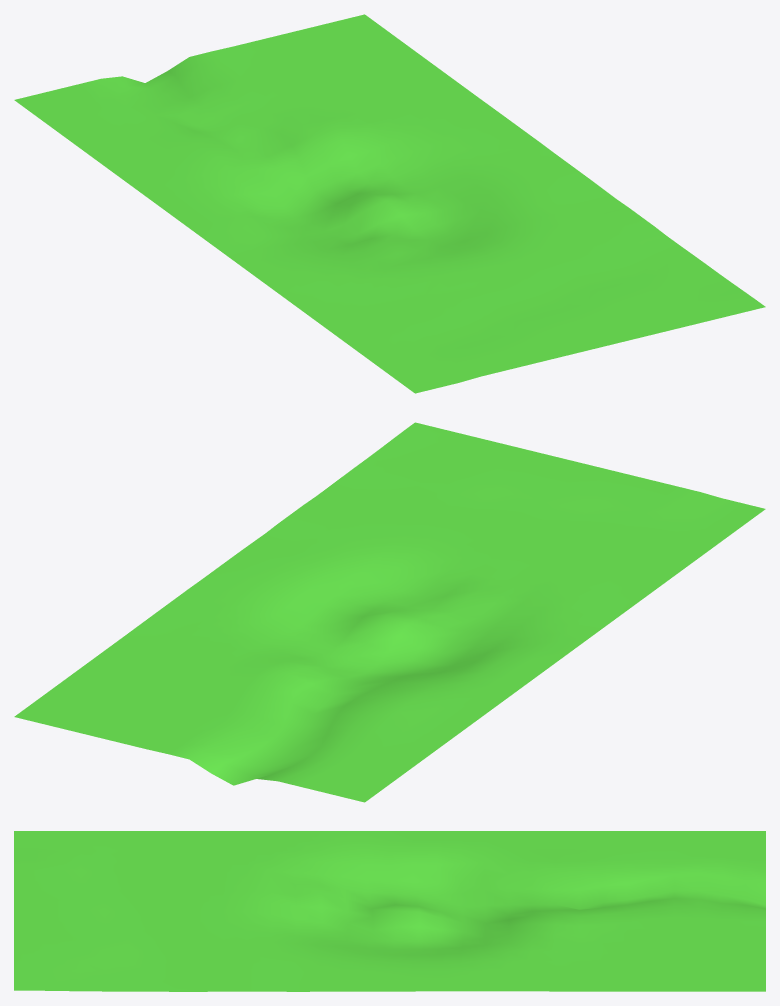
File: Park.fbx
The picture shows the model from 3 angles, top to bottom: view 1: azimuth 30°, elevation 25°; view 2: azimuth 150°, elevation 25°; view 3: azimuth 270°, elevation 25°; orthographic projection. The views are drawn at different scales.
Parts seen in each view (by area): view 1: Park; view 2: Park; view 3: Park.
Part boxes in pixels (x1,y1,x2,y2): Park: (14, 14, 765, 393); Park: (14, 422, 765, 802); Park: (14, 831, 765, 991).
Bounding box in the file's own units: 5000 × 276 × 9900.
